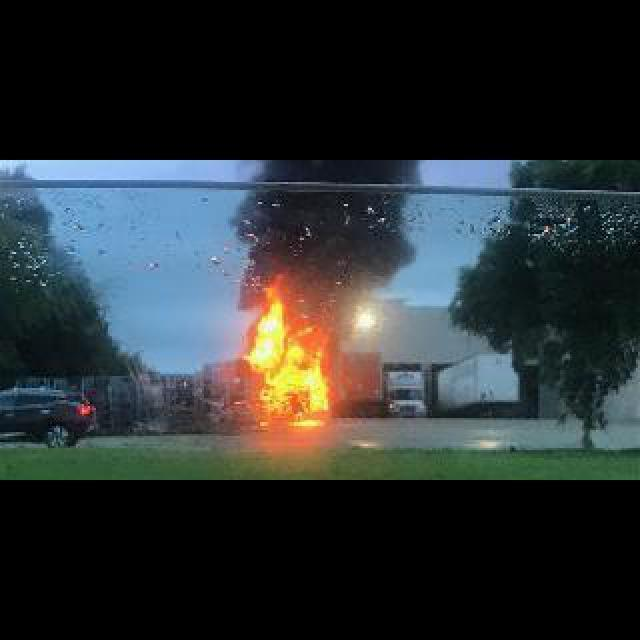Fire: (242, 293, 334, 432)
Smoke: (233, 156, 424, 294)
